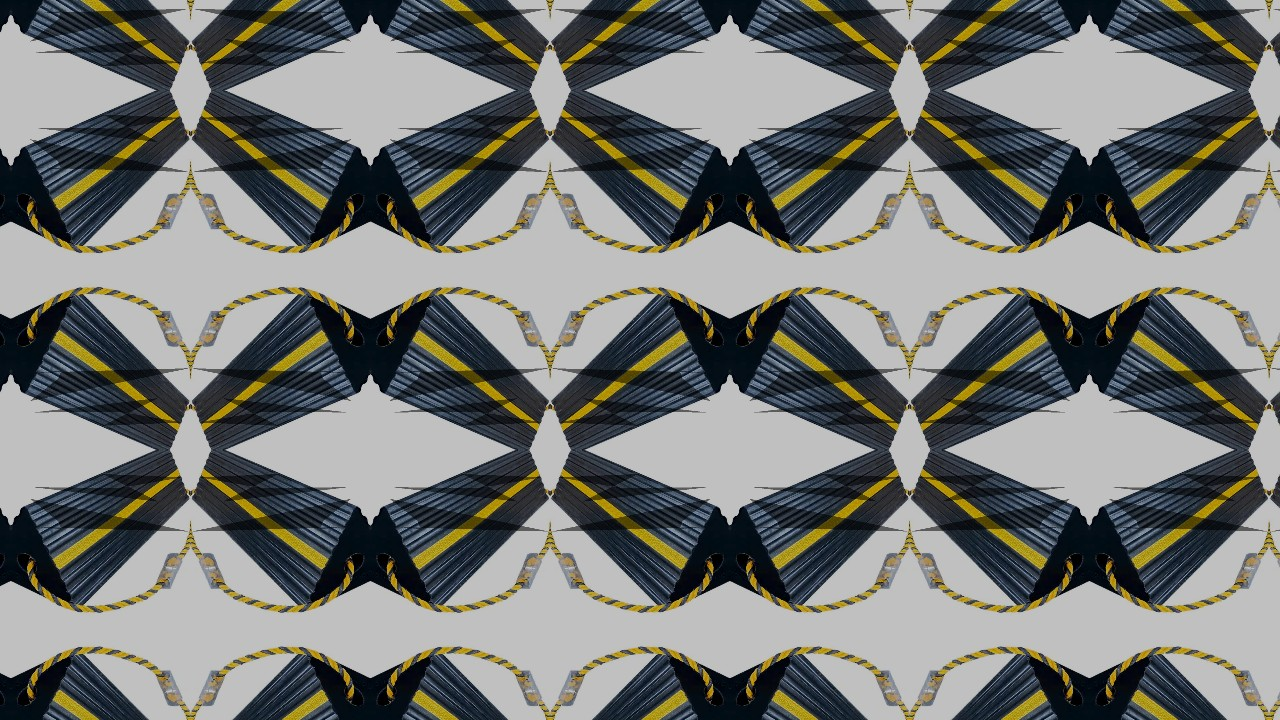chock: (10, 90, 190, 259), (190, 90, 370, 259), (370, 90, 550, 259), (550, 90, 730, 259), (730, 90, 910, 259), (910, 90, 1090, 259), (1090, 90, 1270, 259), (10, 281, 190, 450), (190, 281, 370, 450), (370, 281, 550, 450), (550, 281, 730, 450), (730, 281, 910, 450), (910, 281, 1090, 450), (1090, 281, 1270, 450), (10, 450, 190, 619), (190, 450, 370, 619), (370, 450, 550, 619), (550, 450, 730, 619), (730, 450, 910, 619), (910, 450, 1090, 619), (1090, 450, 1270, 619), (10, 0, 190, 90), (190, 0, 370, 90), (370, 0, 550, 90), (550, 0, 730, 90), (730, 0, 910, 90), (910, 0, 1090, 90), (1090, 0, 1270, 90), (10, 641, 190, 720), (190, 641, 370, 720), (370, 641, 550, 720), (550, 641, 730, 720), (730, 641, 910, 720), (910, 641, 1090, 720), (1090, 641, 1270, 720), (0, 90, 10, 259), (1270, 90, 1280, 259), (0, 281, 10, 450), (1270, 281, 1280, 450), (0, 450, 10, 619), (1270, 450, 1280, 619)
